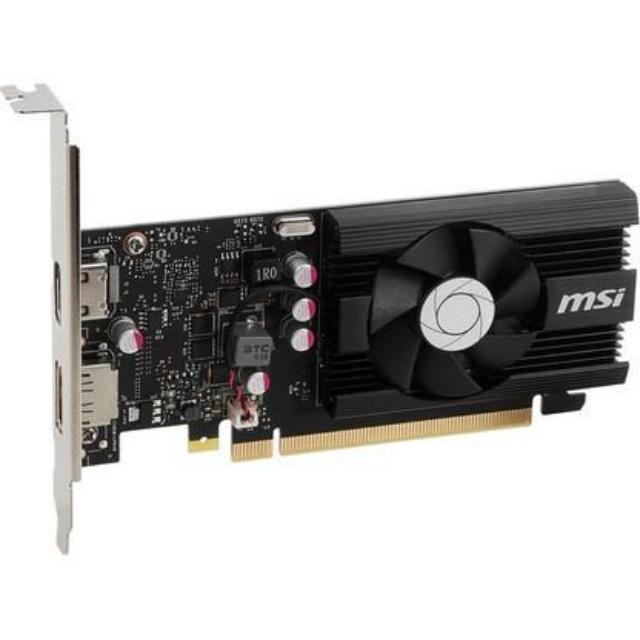GPU: (23, 178, 640, 470)
